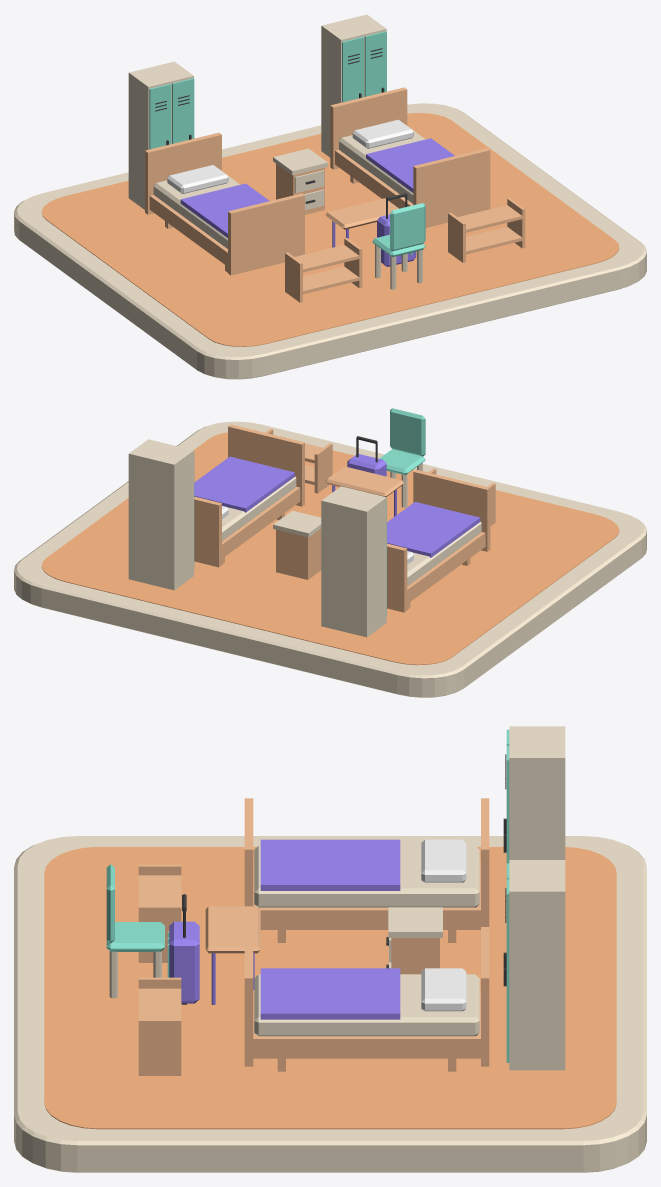
The model's file is room.fbx.
3 renders of one model, top to bottom at view 1: azimuth 30°, elevation 25°; view 2: azimuth 150°, elevation 25°; view 3: azimuth 270°, elevation 25°, orthographic. The views are drawn at different scales.
Parts seen in each view (by area): view 1: COM-02 Floor Surface, COM-01 Rounded Base Direct, End board, End board.002, Case, Case.001, End board.003, End board.001, Blanket.001, Blanket, Backrest, Mattress (+19 smaller); view 2: COM-02 Floor Surface, COM-01 Rounded Base Direct, Case, Case.001, Blanket.001, Blanket, End board, End board.002, Body, End board.003, Backrest, Frame (+9 smaller); view 3: COM-02 Floor Surface, COM-01 Rounded Base Direct, Case.001, Case, Blanket.001, Blanket, Mattress.001, Mattress, Frame.001, Frame, Side.003, Rounded table top (+15 smaller).
Part boxes in pixels (x1,y1,x2,y2): COM-02 Floor Surface: (41, 113, 619, 346); COM-01 Rounded Base Direct: (14, 103, 646, 379); End board: (228, 193, 304, 275); End board.002: (413, 148, 490, 227); Case: (128, 61, 193, 209); Case.001: (321, 14, 386, 157); End board.003: (330, 87, 407, 169); End board.001: (145, 132, 221, 214); Blanket.001: (366, 138, 454, 192); Blanket: (180, 183, 269, 237); Backrest: (390, 203, 425, 251); Mattress: (153, 170, 239, 248); COM-02 Floor Surface: (41, 432, 619, 665); COM-01 Rounded Base Direct: (14, 421, 646, 697); Case: (321, 486, 386, 637); Case.001: (128, 439, 193, 590); Blanket.001: (194, 456, 294, 512); Blanket: (387, 501, 480, 557); End board: (413, 469, 490, 551); End board.002: (228, 424, 304, 506); Body: (276, 529, 321, 579); End board.003: (194, 496, 221, 567); Backrest: (390, 408, 425, 456); Frame: (407, 532, 485, 603); COM-02 Floor Surface: (44, 847, 616, 1129); COM-01 Rounded Base Direct: (14, 836, 646, 1172); Case.001: (509, 860, 565, 1070); Case: (509, 726, 565, 859); Blanket.001: (260, 968, 400, 1019); Blanket: (260, 839, 400, 890); Mattress.001: (254, 974, 479, 1036); Mattress: (254, 845, 479, 907); Frame.001: (253, 990, 480, 1058); Frame: (253, 861, 480, 929); Side.003: (138, 1019, 181, 1075); Rounded table top: (205, 906, 260, 953).
Bounding box in the file's own units: 600 × 192 × 520.
